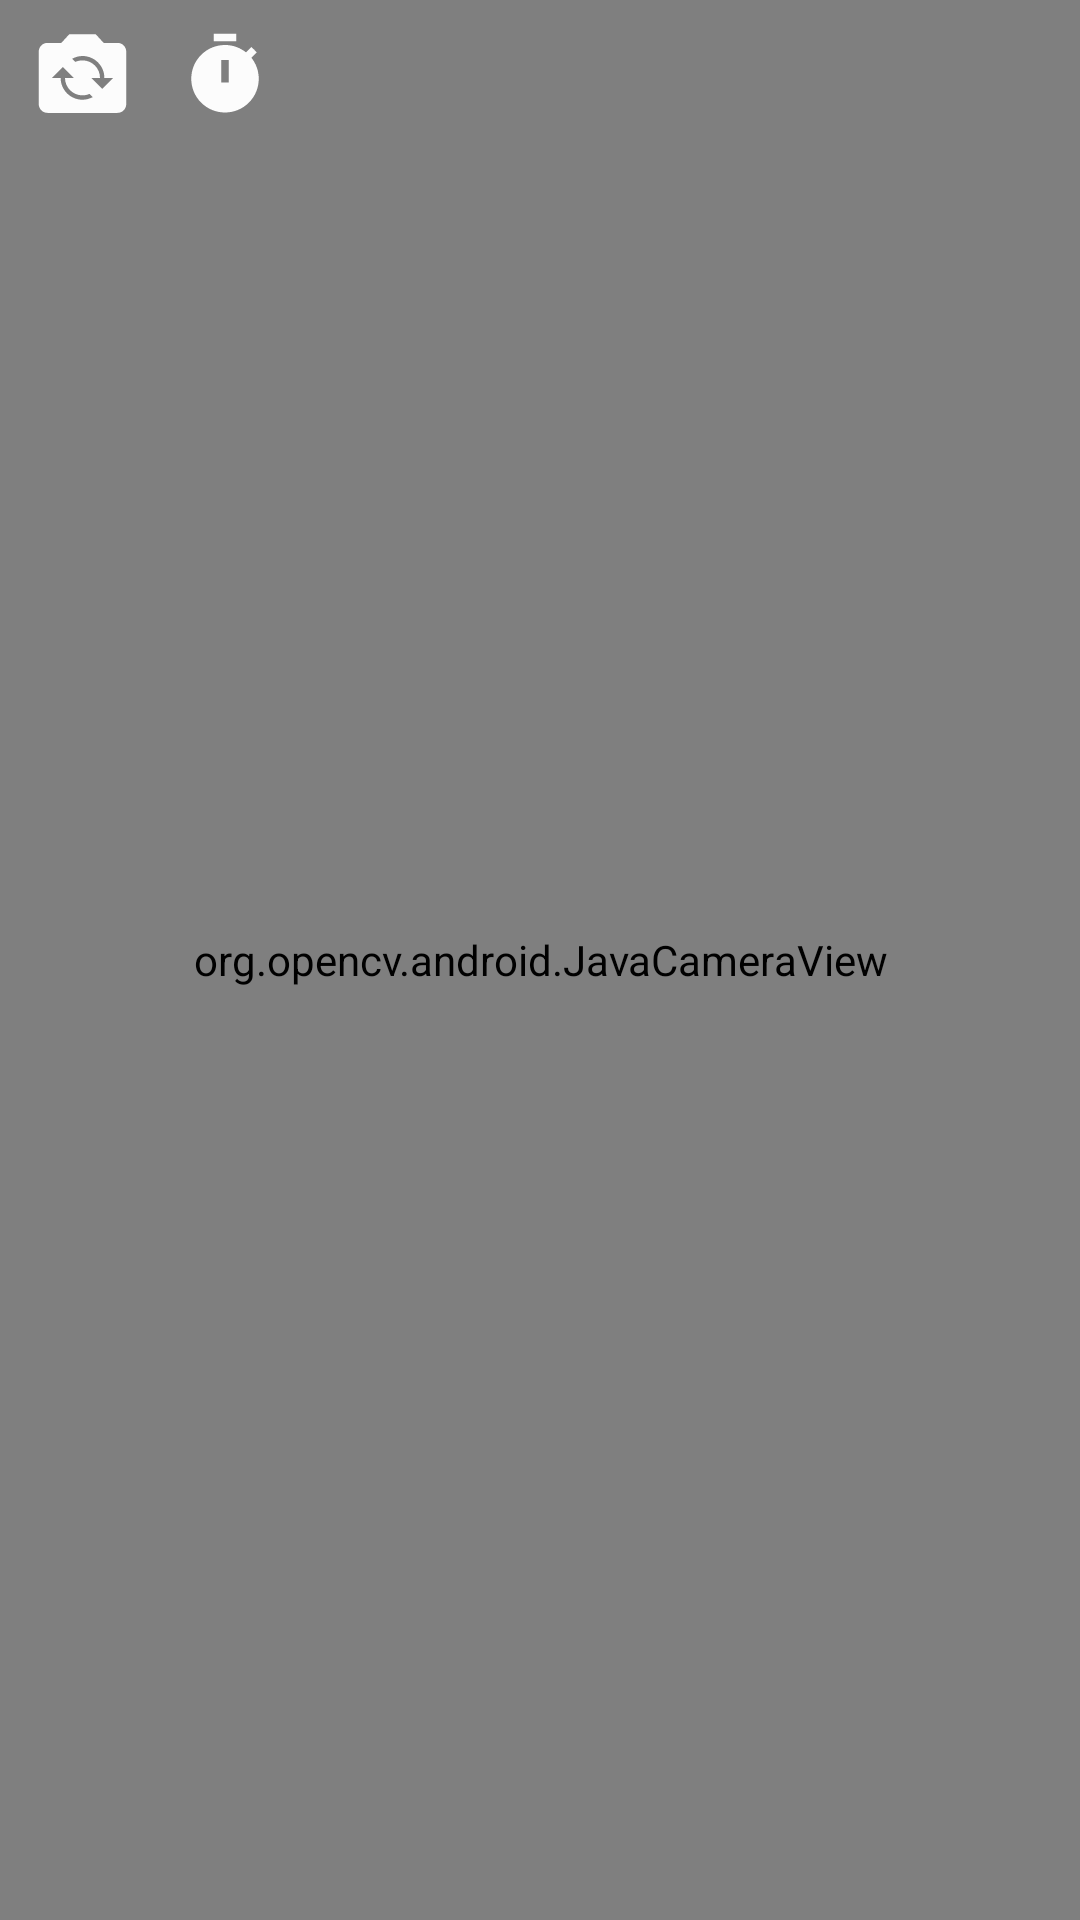

Where to tap for icons on this 1080×1920 app screen, as (x,y):
flip camera: (82,73)
